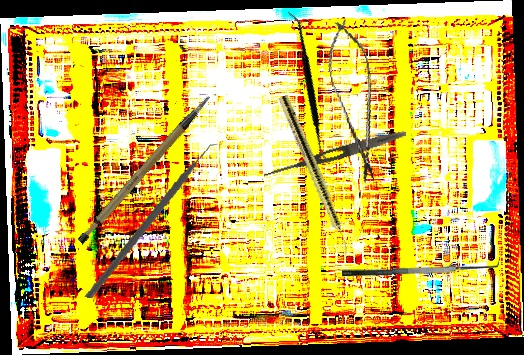Chopper: (83, 130, 231, 313)
Dressing Forceps: (262, 126, 408, 183)
Handpiece: (276, 94, 355, 257)
Micro Scissor: (319, 14, 392, 188)
Scalpel Handle: (60, 94, 232, 248)
Spatula Surgical: (233, 10, 385, 165), (341, 253, 500, 278)
